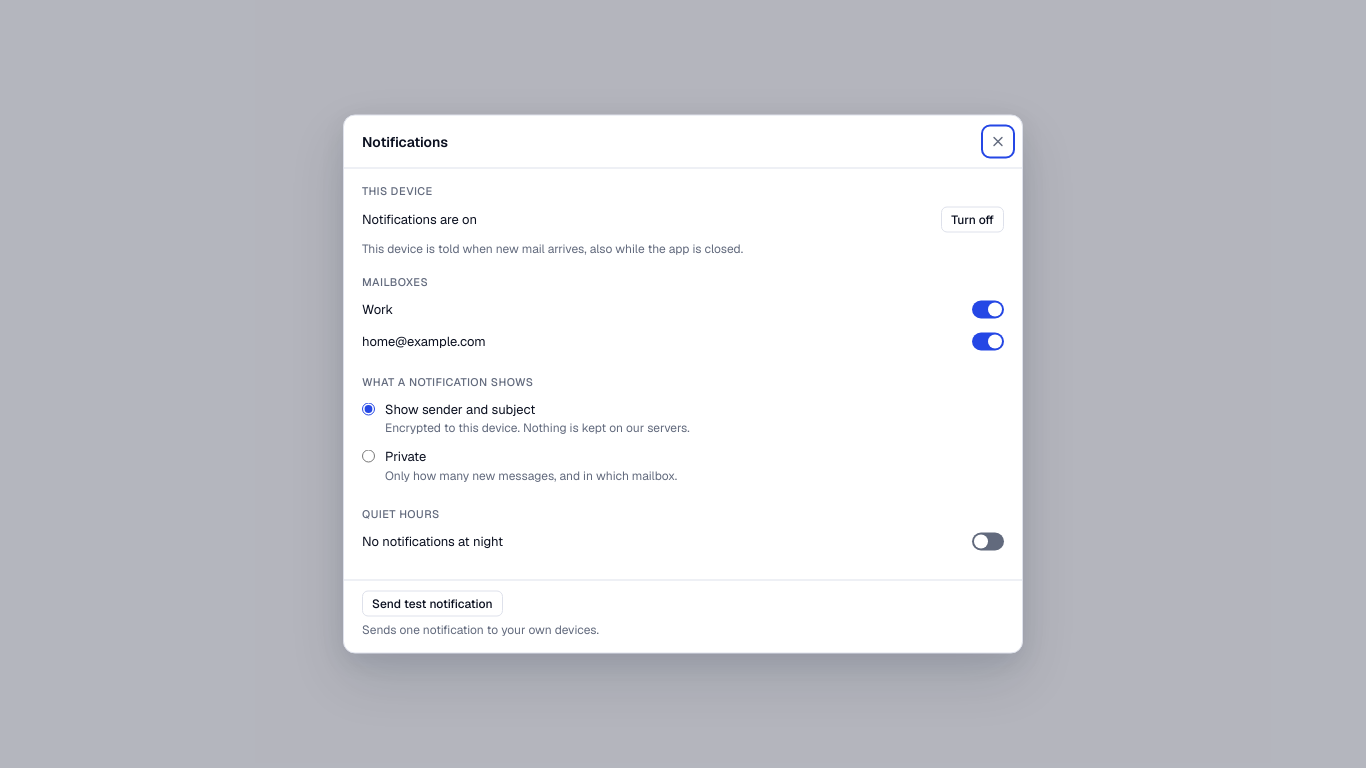
Notifications settings › Turn off unsubscribes this device
Click the button "Turn off" at (973, 219), box top-left (941, 206), bottom-right (1004, 232)
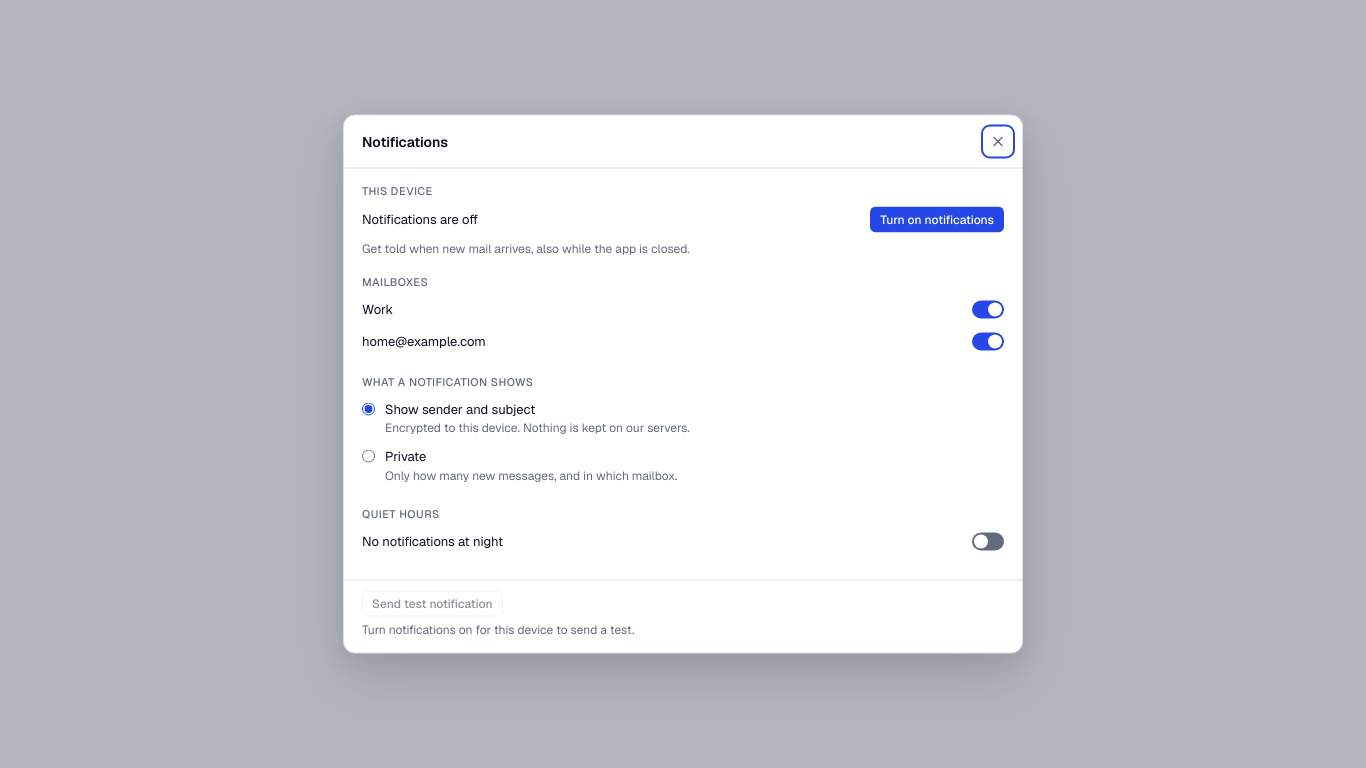
Check: the text "Notifications are off" is shown, box top-left (362, 209), bottom-right (478, 229)
